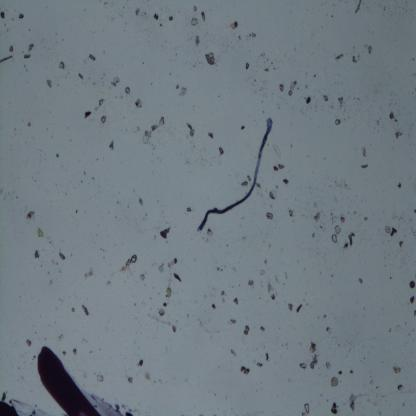Background material: (260, 50, 276, 76), (120, 256, 137, 275), (309, 338, 318, 373), (246, 26, 262, 42), (348, 392, 359, 414), (150, 117, 165, 133), (382, 225, 400, 238), (330, 224, 340, 247), (140, 129, 152, 148), (206, 50, 217, 69), (336, 93, 347, 110), (329, 374, 340, 390), (347, 231, 356, 250), (288, 79, 297, 97), (185, 122, 195, 138), (175, 84, 188, 96), (160, 226, 171, 240), (352, 1, 362, 16), (80, 303, 90, 318), (273, 161, 286, 172), (110, 74, 120, 88), (258, 264, 268, 278), (134, 96, 144, 110), (166, 258, 178, 269), (82, 267, 93, 279), (0, 53, 13, 63), (313, 211, 322, 225), (334, 51, 345, 62), (240, 365, 250, 377), (323, 360, 333, 372), (392, 364, 402, 376), (25, 209, 35, 221), (408, 278, 416, 292), (268, 284, 275, 300), (361, 145, 369, 159), (188, 17, 198, 28), (330, 402, 339, 414), (302, 402, 311, 414), (243, 175, 252, 187), (350, 54, 359, 66), (45, 77, 54, 89), (194, 34, 201, 49), (230, 20, 240, 30), (388, 112, 398, 122), (164, 287, 173, 298), (173, 272, 182, 283), (96, 373, 105, 384), (88, 52, 97, 63), (282, 176, 290, 188), (206, 226, 214, 238), (243, 324, 251, 336), (158, 308, 166, 320), (171, 323, 178, 336), (395, 130, 404, 140), (324, 324, 333, 334), (269, 190, 277, 201), (134, 7, 142, 18), (107, 140, 115, 151), (296, 303, 303, 315), (200, 10, 206, 24), (0, 9, 7, 21), (244, 60, 251, 72), (305, 94, 312, 106), (57, 61, 66, 70), (210, 302, 218, 312), (298, 362, 308, 370), (58, 252, 66, 262), (207, 131, 215, 141), (26, 44, 36, 52), (158, 262, 164, 275), (37, 227, 44, 238), (397, 383, 405, 392), (264, 351, 270, 363), (288, 302, 294, 314), (288, 206, 294, 218), (247, 279, 255, 288), (266, 212, 274, 221), (219, 146, 225, 158), (144, 372, 152, 381), (278, 82, 284, 94), (334, 117, 342, 126), (356, 276, 364, 285), (24, 52, 33, 60), (124, 86, 131, 96), (340, 213, 346, 224), (343, 240, 349, 251), (72, 347, 78, 358), (367, 44, 372, 57), (256, 360, 264, 368), (229, 317, 237, 325), (126, 376, 134, 384), (84, 111, 92, 119), (186, 205, 193, 214), (153, 12, 160, 21), (361, 164, 370, 171), (137, 197, 144, 206), (138, 358, 145, 367), (98, 98, 104, 108), (34, 250, 40, 260), (166, 15, 176, 21), (140, 273, 146, 283), (259, 325, 266, 333), (25, 340, 32, 348), (233, 297, 239, 306), (323, 94, 329, 103), (101, 114, 107, 123), (18, 13, 25, 20), (8, 45, 15, 52), (338, 368, 344, 376), (410, 296, 416, 304), (70, 306, 76, 314), (398, 181, 402, 192), (349, 368, 355, 375), (240, 124, 245, 131), (78, 73, 82, 80)
Cotton: (197, 117, 274, 233)
Pen: (0, 342, 124, 416)
